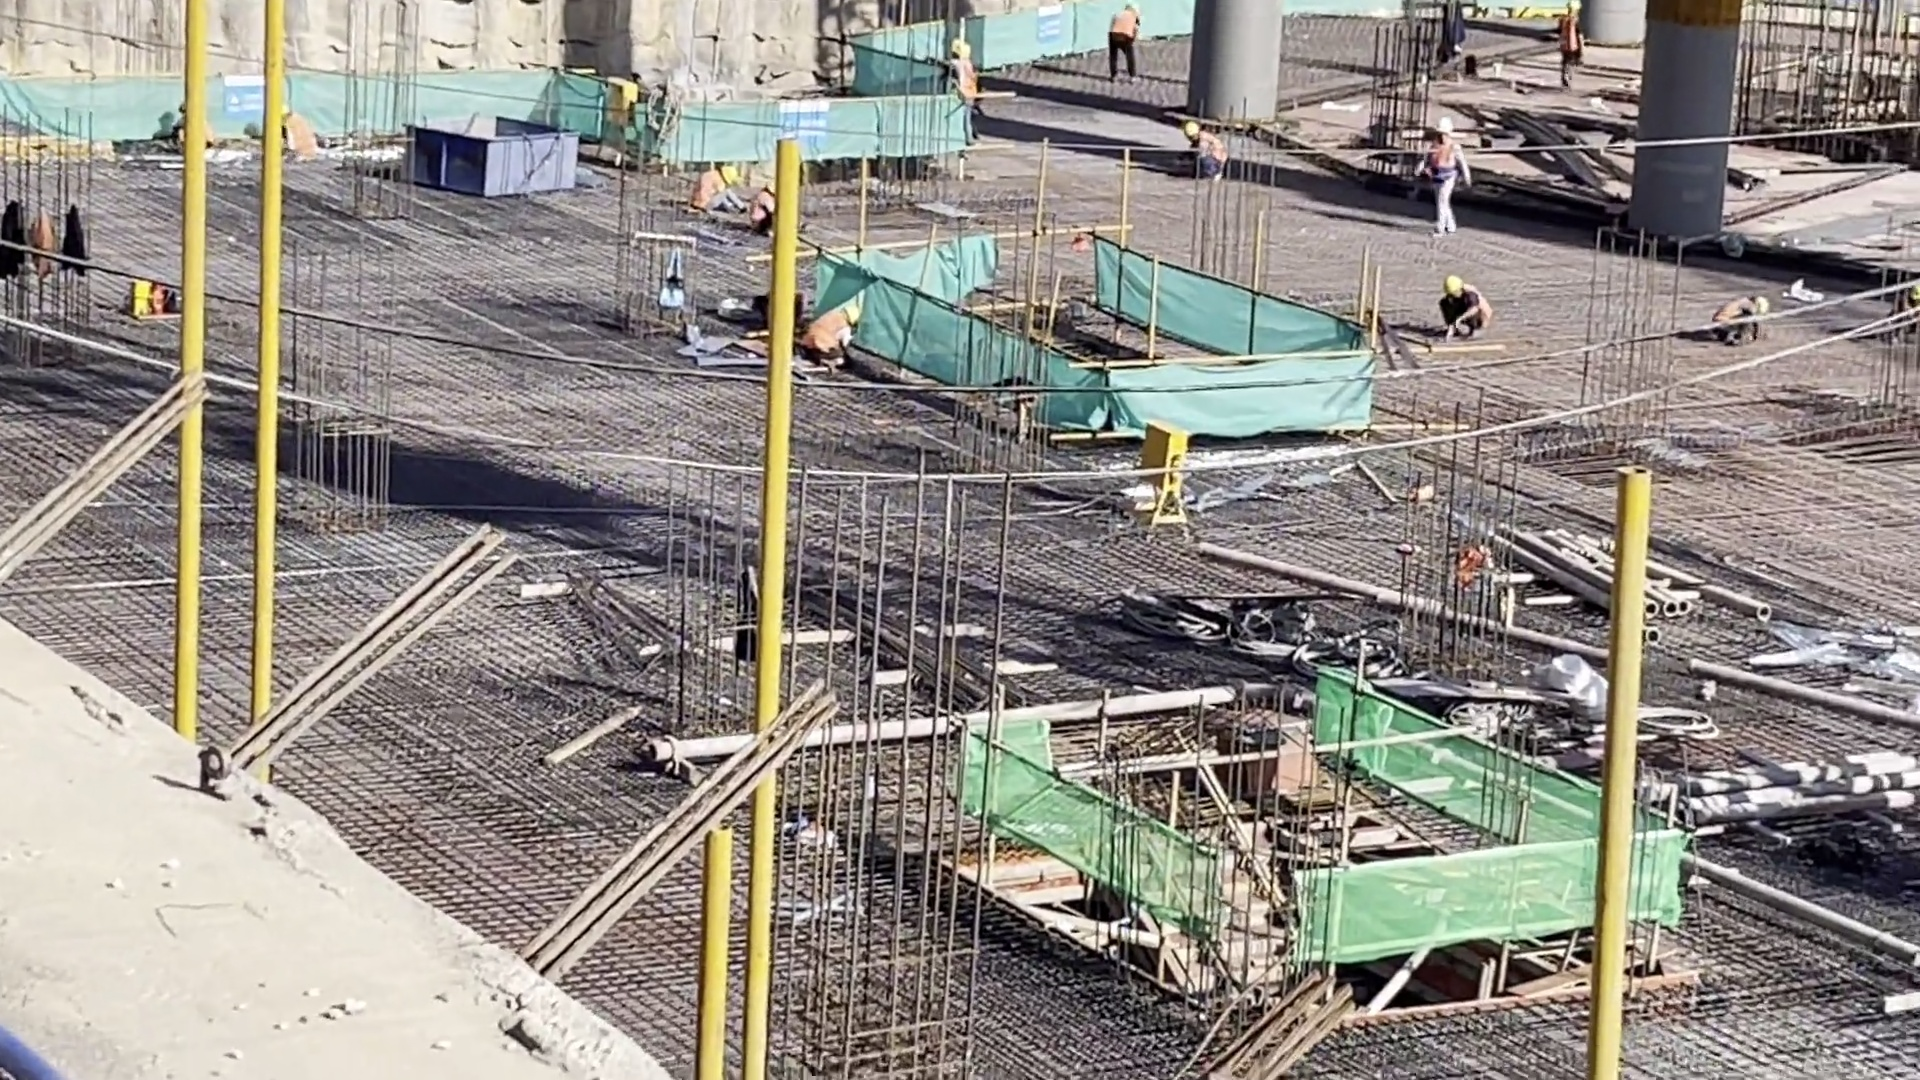helmet: (1434, 119, 1455, 136), (843, 303, 859, 324), (721, 167, 735, 189), (1444, 277, 1462, 292), (1185, 122, 1200, 139)
person: (1425, 116, 1465, 243), (805, 304, 862, 366), (1436, 276, 1492, 338), (1719, 289, 1770, 346), (689, 168, 738, 218), (1183, 124, 1227, 180), (1561, 3, 1585, 87), (1112, 6, 1136, 87)
vest: (808, 308, 846, 357), (1427, 138, 1458, 170), (1561, 12, 1582, 56), (697, 173, 721, 207), (958, 61, 975, 97), (1112, 11, 1135, 37)
